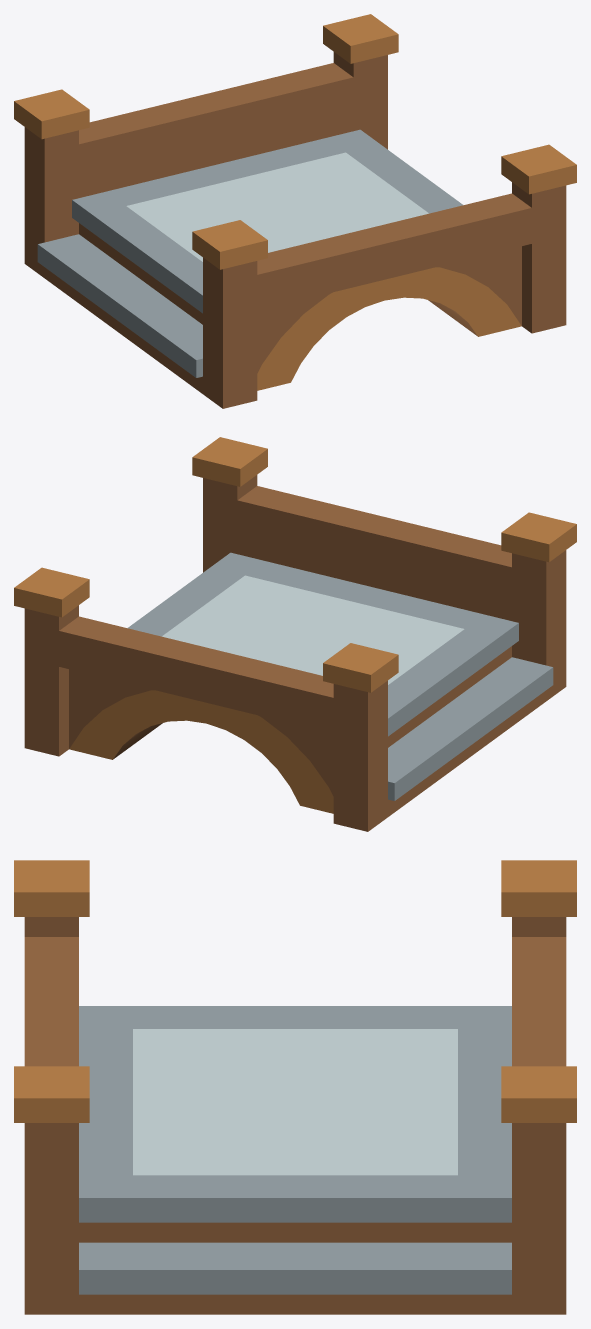
File: bridge_woodRound.glb
3 renders of one model, top to bottom at view 1: azimuth 30°, elevation 25°; view 2: azimuth 150°, elevation 25°; view 3: azimuth 270°, elevation 25°, orthographic. The views are drawn at different scales.
Parts seen in each view (by area): view 1: bridge_woodRound; view 2: bridge_woodRound; view 3: bridge_woodRound.
Part boxes in pixels (<box>): bridge_woodRound: <box>14,14,576,408</box>; bridge_woodRound: <box>14,437,576,831</box>; bridge_woodRound: <box>14,860,576,1314</box>.
Size of the model in its own units: 1.04 by 0.45 by 1.04.
